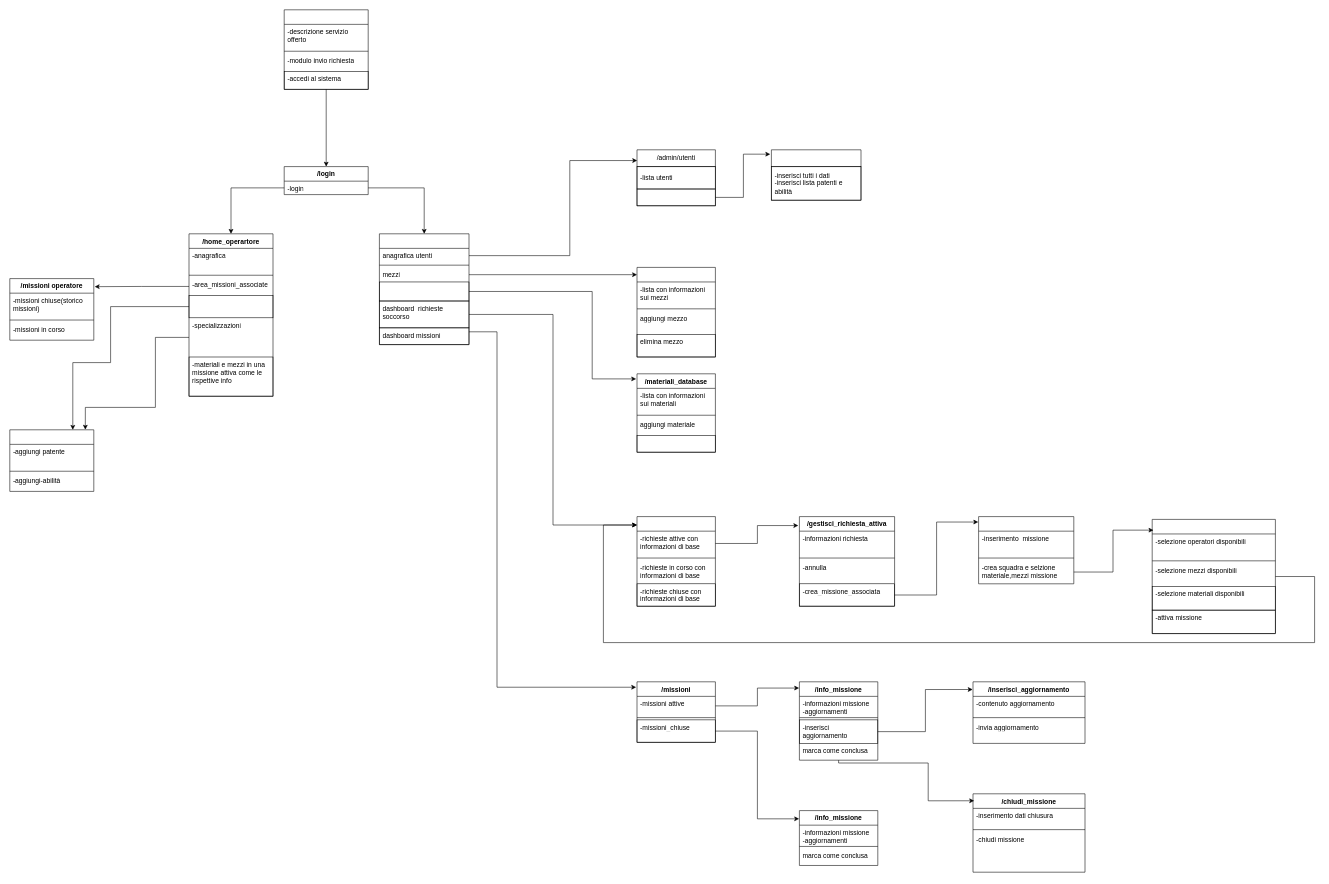
The diagram is 1329 pixels wide and 884 high, and some of its shapes have lost their labels. Here are the shapes that lost their labels. From the top down, the box of each, then its label:
(284, 9, 368, 89): /homepage
(771, 149, 861, 200): /admin/utenti/nuovo_utente
(636, 188, 715, 206): -aggiungi nuovo utente
(188, 295, 273, 318): -patenti
(379, 233, 469, 345): /home_admin
(379, 281, 469, 301): materiali
(636, 267, 715, 357): /mezzi_database
(9, 429, 94, 491): /aggiungi_patente_abilità
(636, 435, 715, 452): elimina materiale
(636, 516, 715, 606): /dashboard_richieste
(978, 516, 1074, 584): /crea_missione
(1152, 519, 1275, 634): /crea_squadra_materiali_mezzi
